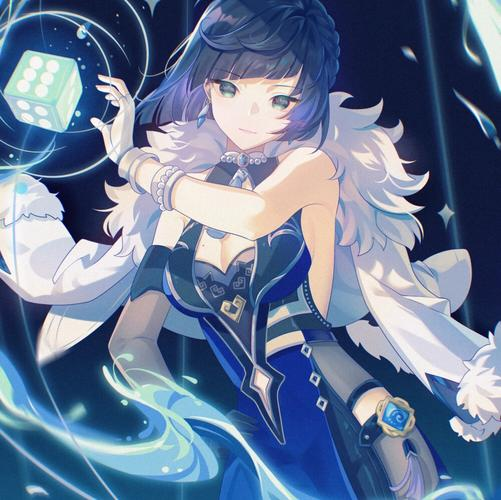夜兰: (91, 1, 442, 500)
